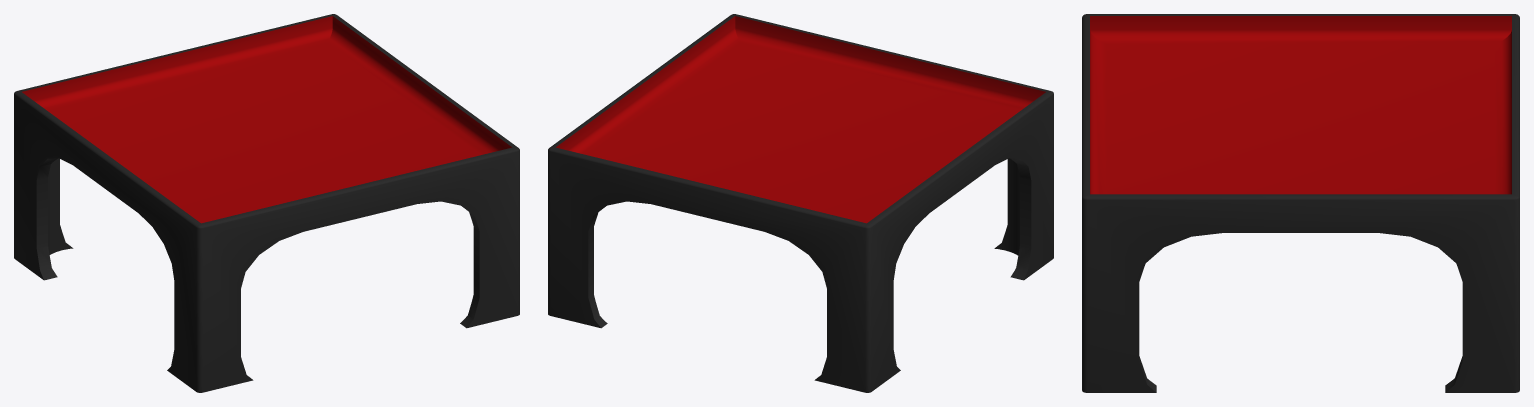
File: Table.fbx
3 views of the same model, side by side, from view 1: azimuth 30°, elevation 25°; view 2: azimuth 150°, elevation 25°; view 3: azimuth 270°, elevation 25° (orthographic). The views are drawn at different scales.
Parts seen in each view (by area): view 1: 立方体; view 2: 立方体; view 3: 立方体.
Part boxes in pixels (x1,y1,x2,y2): 立方体: [14, 14, 519, 392]; 立方体: [548, 14, 1053, 392]; 立方体: [1082, 14, 1519, 392].
Size of the model in its own units: 38.89 by 19.15 by 38.89.
